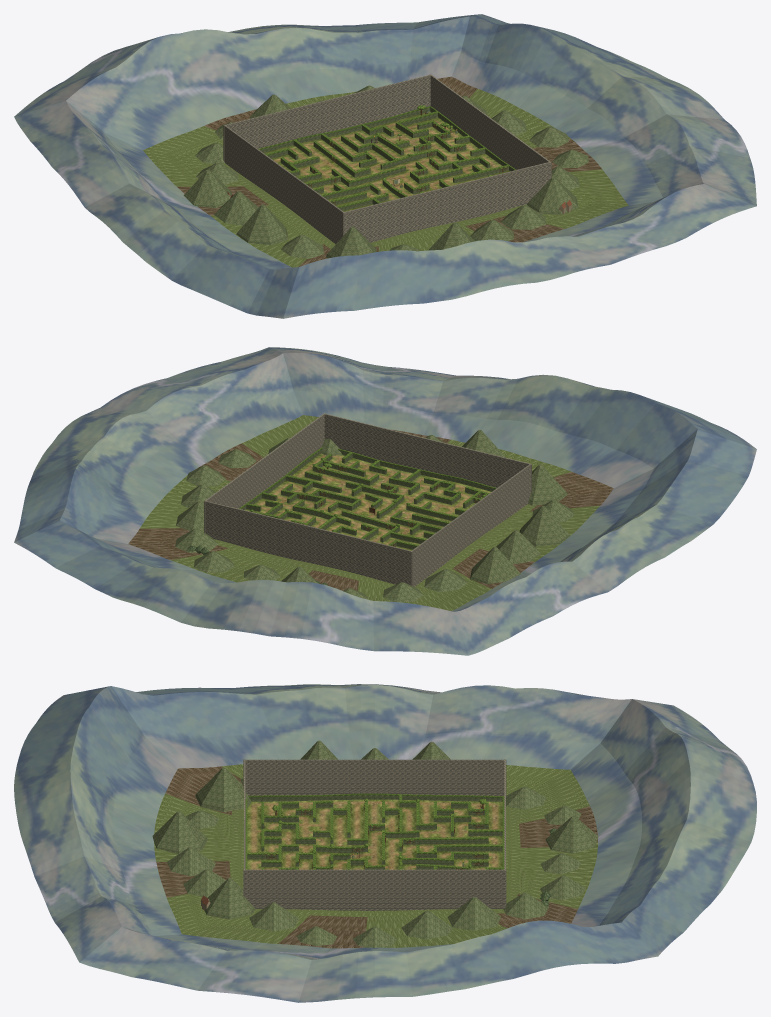
File: QuinceFold.fbx
3 renders of one model, top to bottom at view 1: azimuth 30°, elevation 25°; view 2: azimuth 150°, elevation 25°; view 3: azimuth 270°, elevation 25°, orthographic. The views are drawn at different scales.
Visible parts, largest first — view 1: Surroundings, C_Solids, Horizon, Rim, Terrain, Set; view 2: Surroundings, C_Solids, Horizon, Rim, Terrain, Set; view 3: Surroundings, C_Solids, Horizon, Rim, Terrain, Set.
Boxes of the visible parts, x1,y1,x2,y2 form: Surroundings: (14,14,756,318); C_Solids: (223,74,551,243); Horizon: (183,85,588,258); Rim: (258,106,516,211); Terrain: (264,112,509,211); Set: (288,105,507,204); Surroundings: (14,347,756,655); C_Solids: (204,413,531,586); Horizon: (175,430,574,602); Rim: (239,447,496,549); Terrain: (245,453,491,550); Set: (249,458,487,546); Surroundings: (14,684,756,1002); C_Solids: (243,759,506,910); Horizon: (152,740,598,947); Rim: (245,793,504,869); Terrain: (247,799,502,869); Set: (260,798,486,869).
Bounding box in the file's own units: 34369 × 3975 × 34473.
